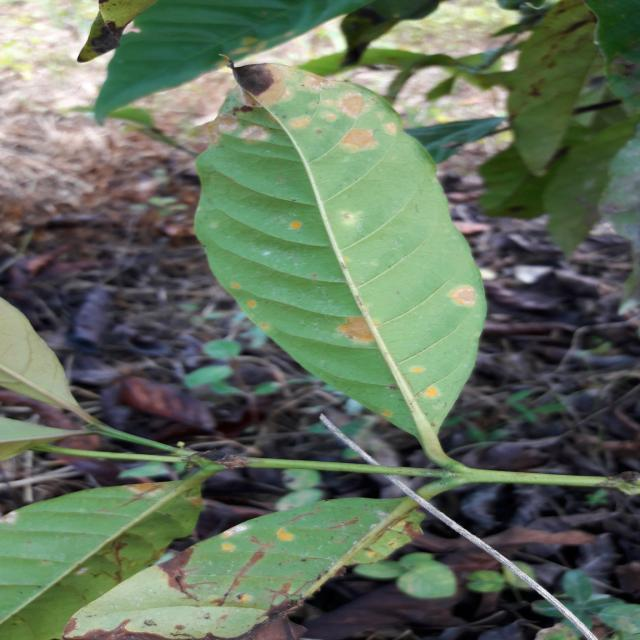Enfermedad-Roya: (193, 72, 488, 455)
